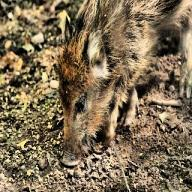boar: (55, 0, 191, 167)
